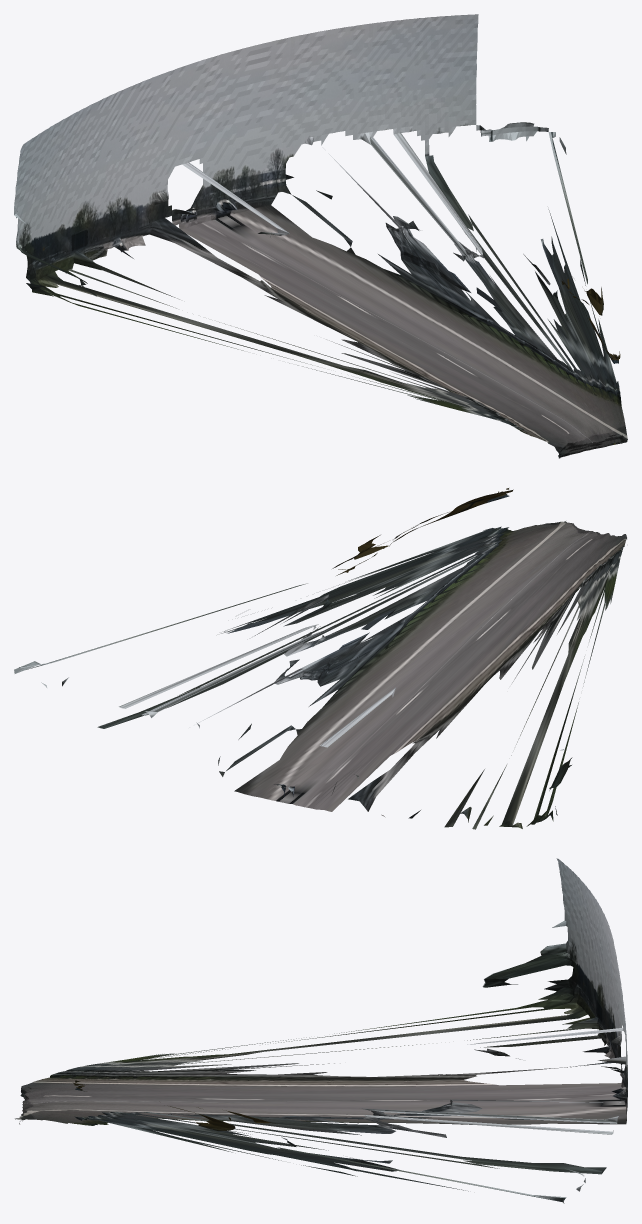
3 views of the same model, one above another, from view 1: azimuth 30°, elevation 25°; view 2: azimuth 150°, elevation 25°; view 3: azimuth 270°, elevation 25° (orthographic). The views are drawn at different scales.
Visible parts, largest first — view 1: defaultobject; view 2: defaultobject; view 3: defaultobject.
Part boxes in pixels (x1,y1,x2,y2): defaultobject: (14,14,627,458); defaultobject: (14,488,626,829); defaultobject: (15,858,627,1203).
Size of the model in its own units: 40.75 by 12.18 by 44.57.
Materials: 1 (1 with a texture image).
